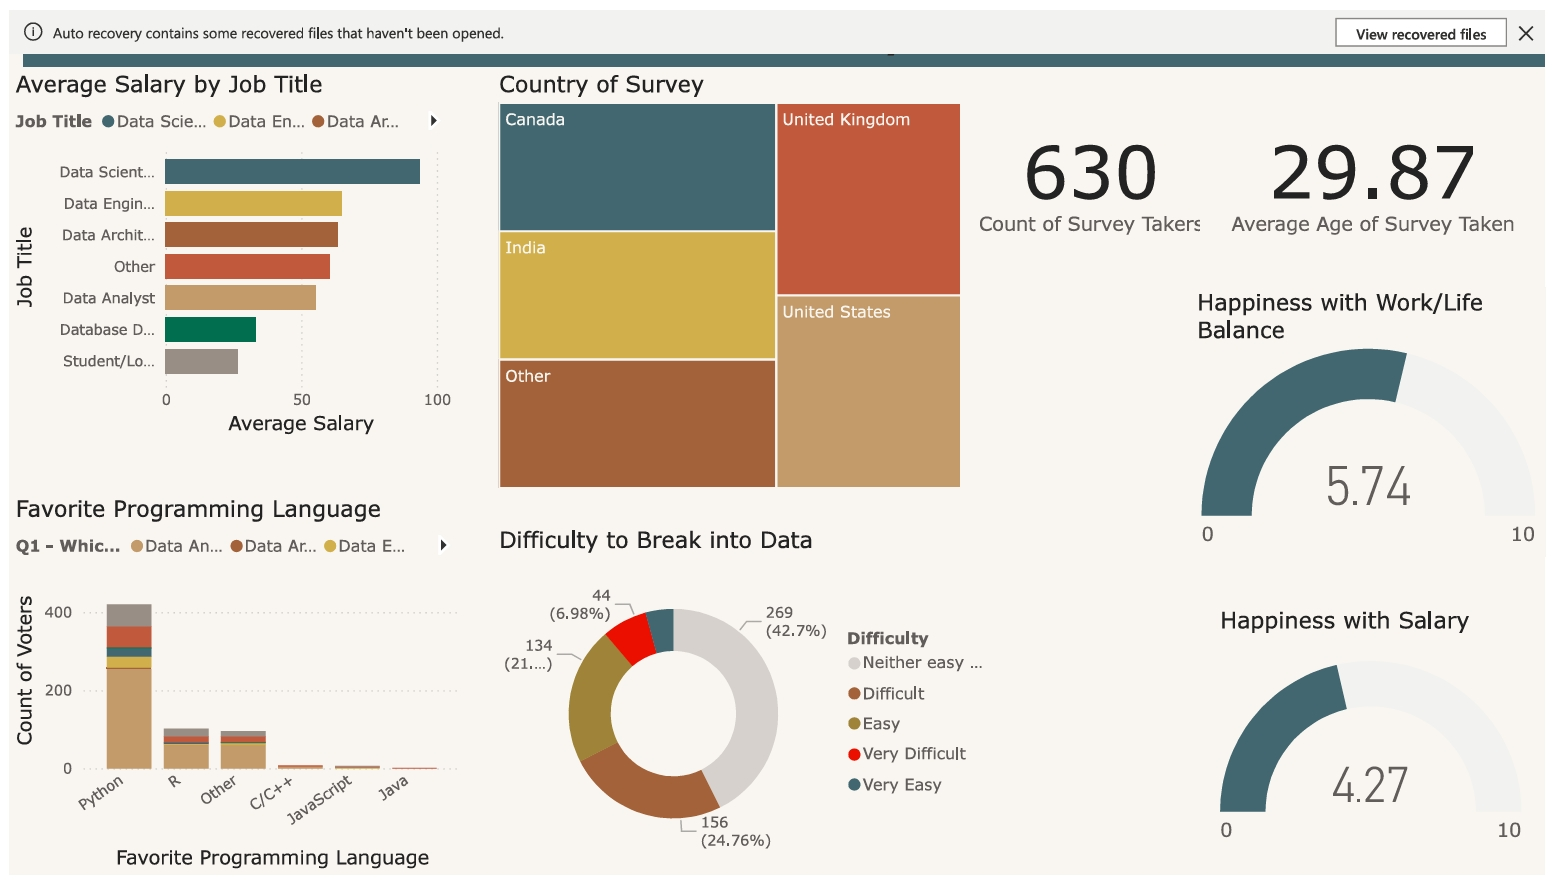

The dashboard page shown, as its layout file describes it:
{"tool":"powerbi","page":{"name":"Page 1","canvas":[1280,720],"ordinal":0},"visuals":[{"type":"textbox","box":[11.7,0,1268.3,46.7],"z":0},{"type":"card","fields":{"Values":["Count(Data Professional Survey.Unique ID)"]},"box":[753.8,48.5,294.8,182.9],"z":1000},{"type":"card","fields":{"Values":["Avg(Data Professional Survey.Q10 - Current Age)"]},"box":[992.7,48.5,287.3,182.9],"z":2000},{"type":"barChart","title":"Average Salary by Job Title","fields":{"Category":["Data Professional Survey.Q1 - Which Title Best Fits your Current Role?.1"],"Y":["Avg(Data Professional Survey.Average Salary)"],"Series":["Data Professional Survey.Q1 - Which Title Best Fits your Current Role?.1"]},"box":[0,48.5,373.2,309.7],"z":3000},{"type":"columnChart","title":"Favorite Programming Language","fields":{"Category":["Data Professional Survey.Q5 - Favorite Programming Language.1"],"Y":["CountNonNull(Data Professional Survey.Unique ID)"],"Series":["Data Professional Survey.Q1 - Which Title Best Fits your Current Role?.1"]},"box":[0,402.7,381.3,317.1],"z":4000},{"type":"treemap","title":"Country of Survey","fields":{"Group":["Data Professional Survey.Q11 - Which Country do you live in?.1"],"Values":["Count(Data Professional Survey.Q11 - Which Country do you live in?.1)"]},"box":[402.7,48.6,394.9,354],"z":5000},{"type":"gauge","title":"Happiness with Work/Life Balance","fields":{"Y":["Avg(Data Professional Survey.Q6 - How Happy are you in your Current Position with the following? (Work/Life Balance))"],"MinValue":["Min(Data Professional Survey.Q6 - How Happy are you in your Current Position with the following? (Work/Life Balance))1"],"MaxValue":["Max(Data Professional Survey.Q6 - How Happy are you in your Current Position with the following? (Work/Life Balance))2"]},"box":[985.2,231.4,294.8,223.9],"z":6000},{"type":"gauge","title":"Happiness with Salary","fields":{"Y":["Avg(Data Professional Survey.Q6 - How Happy are you in your Current Position with the following? (Salary))"],"MinValue":["Min(Data Professional Survey.Q6 - How Happy are you in your Current Position with the following? (Salary))"],"MaxValue":["Max(Data Professional Survey.Q6 - How Happy are you in your Current Position with the following? (Salary))"]},"box":[1003.8,496.3,261.2,223.9],"z":7000},{"type":"donutChart","title":"Difficulty to Break into Data","fields":{"Category":["Data Professional Survey.Q7 - How difficult was it for you to break into Data?"],"Y":["CountNonNull(Data Professional Survey.Q10 - Current Age)"]},"box":[403,429.2,425.4,291.1],"z":8000}]}

Visuals, with their boxes on the page's 1280x720 design canvas (x1, y1, x2, y2). These are canvas units, not pixel positions in the 1558x887 screenshot, which may show the page scaled, cropped or inside an application window:
textbox: [12,0,1280,47]
card - Count(Data Professional Survey.Unique ID): [754,48,1049,231]
card - Avg(Data Professional Survey.Q10 - Current Age): [993,48,1280,231]
"Average Salary by Job Title" barChart: [0,48,373,358]
"Favorite Programming Language" columnChart: [0,403,381,720]
"Country of Survey" treemap: [403,49,798,403]
"Happiness with Work/Life Balance" gauge: [985,231,1280,455]
"Happiness with Salary" gauge: [1004,496,1265,720]
"Difficulty to Break into Data" donutChart: [403,429,828,720]
